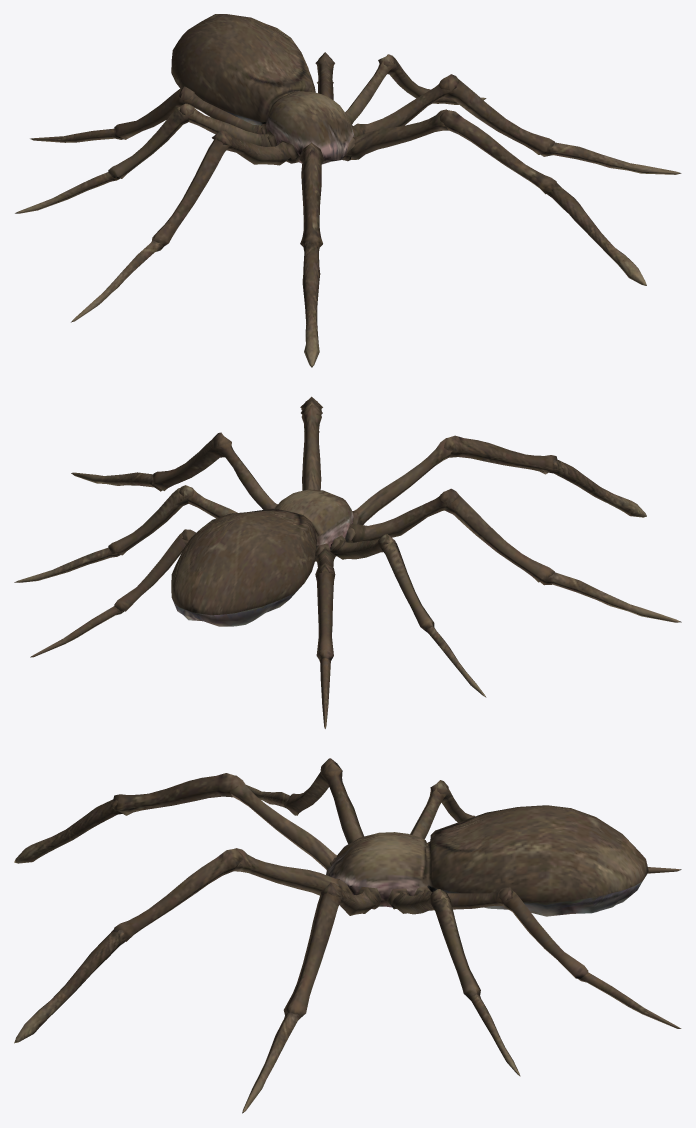
File: spider.obj
3 views of the same model, one above another, from view 1: azimuth 30°, elevation 25°; view 2: azimuth 150°, elevation 25°; view 3: azimuth 270°, elevation 25° (orthographic). The views are drawn at different scales.
Visible parts, largest first — view 1: spider; view 2: spider; view 3: spider.
Boxes of the visible parts, x1=… form: spider: x1=15, y1=14, x2=681, y2=367; spider: x1=14, y1=396, x2=681, y2=728; spider: x1=14, y1=758, x2=681, y2=1113.
Bounding box in the file's own units: 105 × 21.68 × 90.3.
